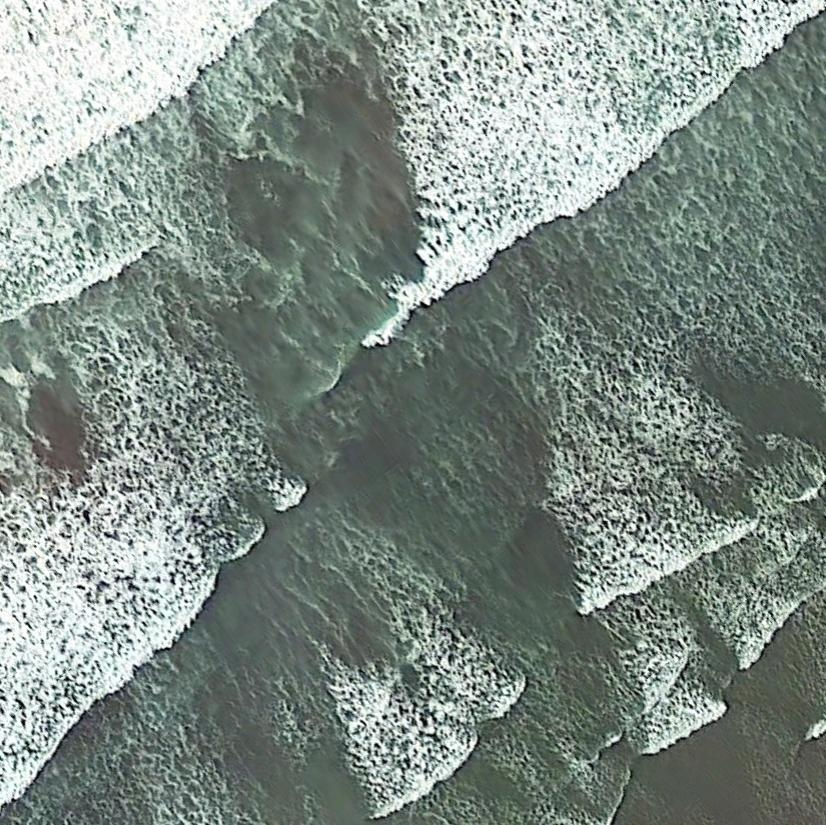rip_current: (132, 69, 689, 763)
